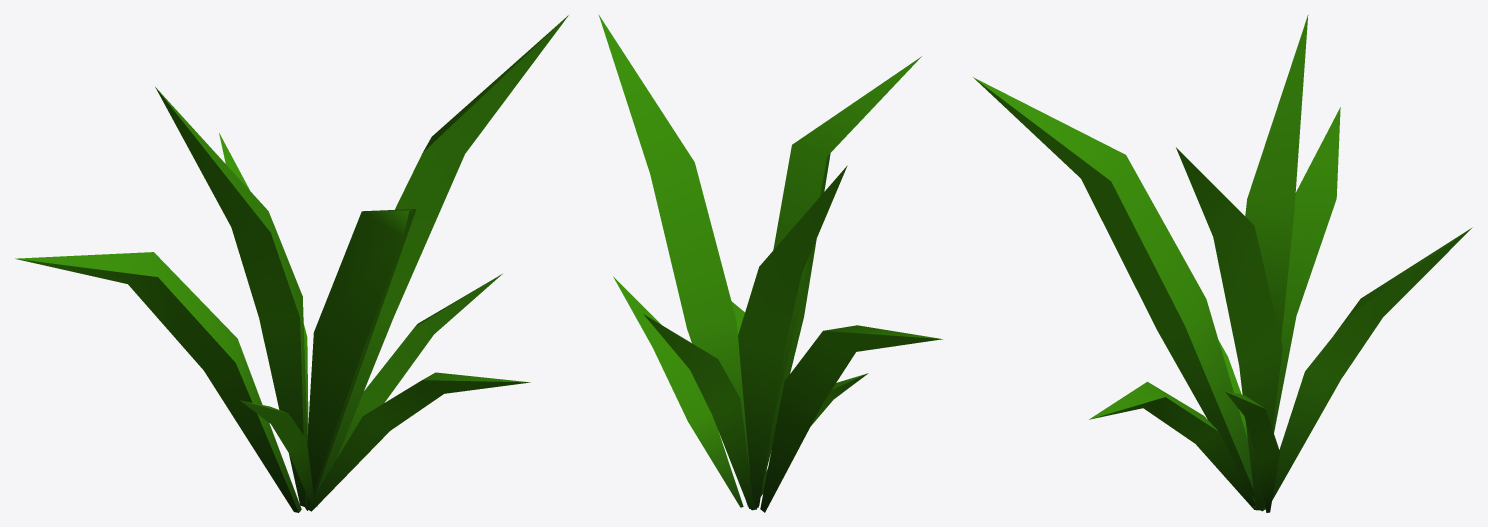
File: ENV_Vegetation_Grass_01.fbx
3 renders of one model, left to right at view 1: azimuth 30°, elevation 25°; view 2: azimuth 150°, elevation 25°; view 3: azimuth 270°, elevation 25°, orthographic. The views are drawn at different scales.
Visible parts, largest first — view 1: ENV_Vegetation_Grass_01; view 2: ENV_Vegetation_Grass_01; view 3: ENV_Vegetation_Grass_01.
Part boxes in pixels (x1,y1,x2,y2): ENV_Vegetation_Grass_01: [15, 15, 568, 512]; ENV_Vegetation_Grass_01: [598, 14, 942, 512]; ENV_Vegetation_Grass_01: [973, 14, 1472, 512].
Bounding box in the file's own units: 28.17 × 27.01 × 26.11.
